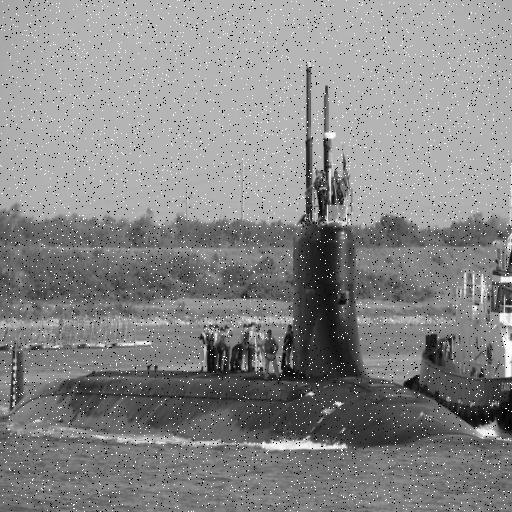submarine: (4, 53, 504, 428)
